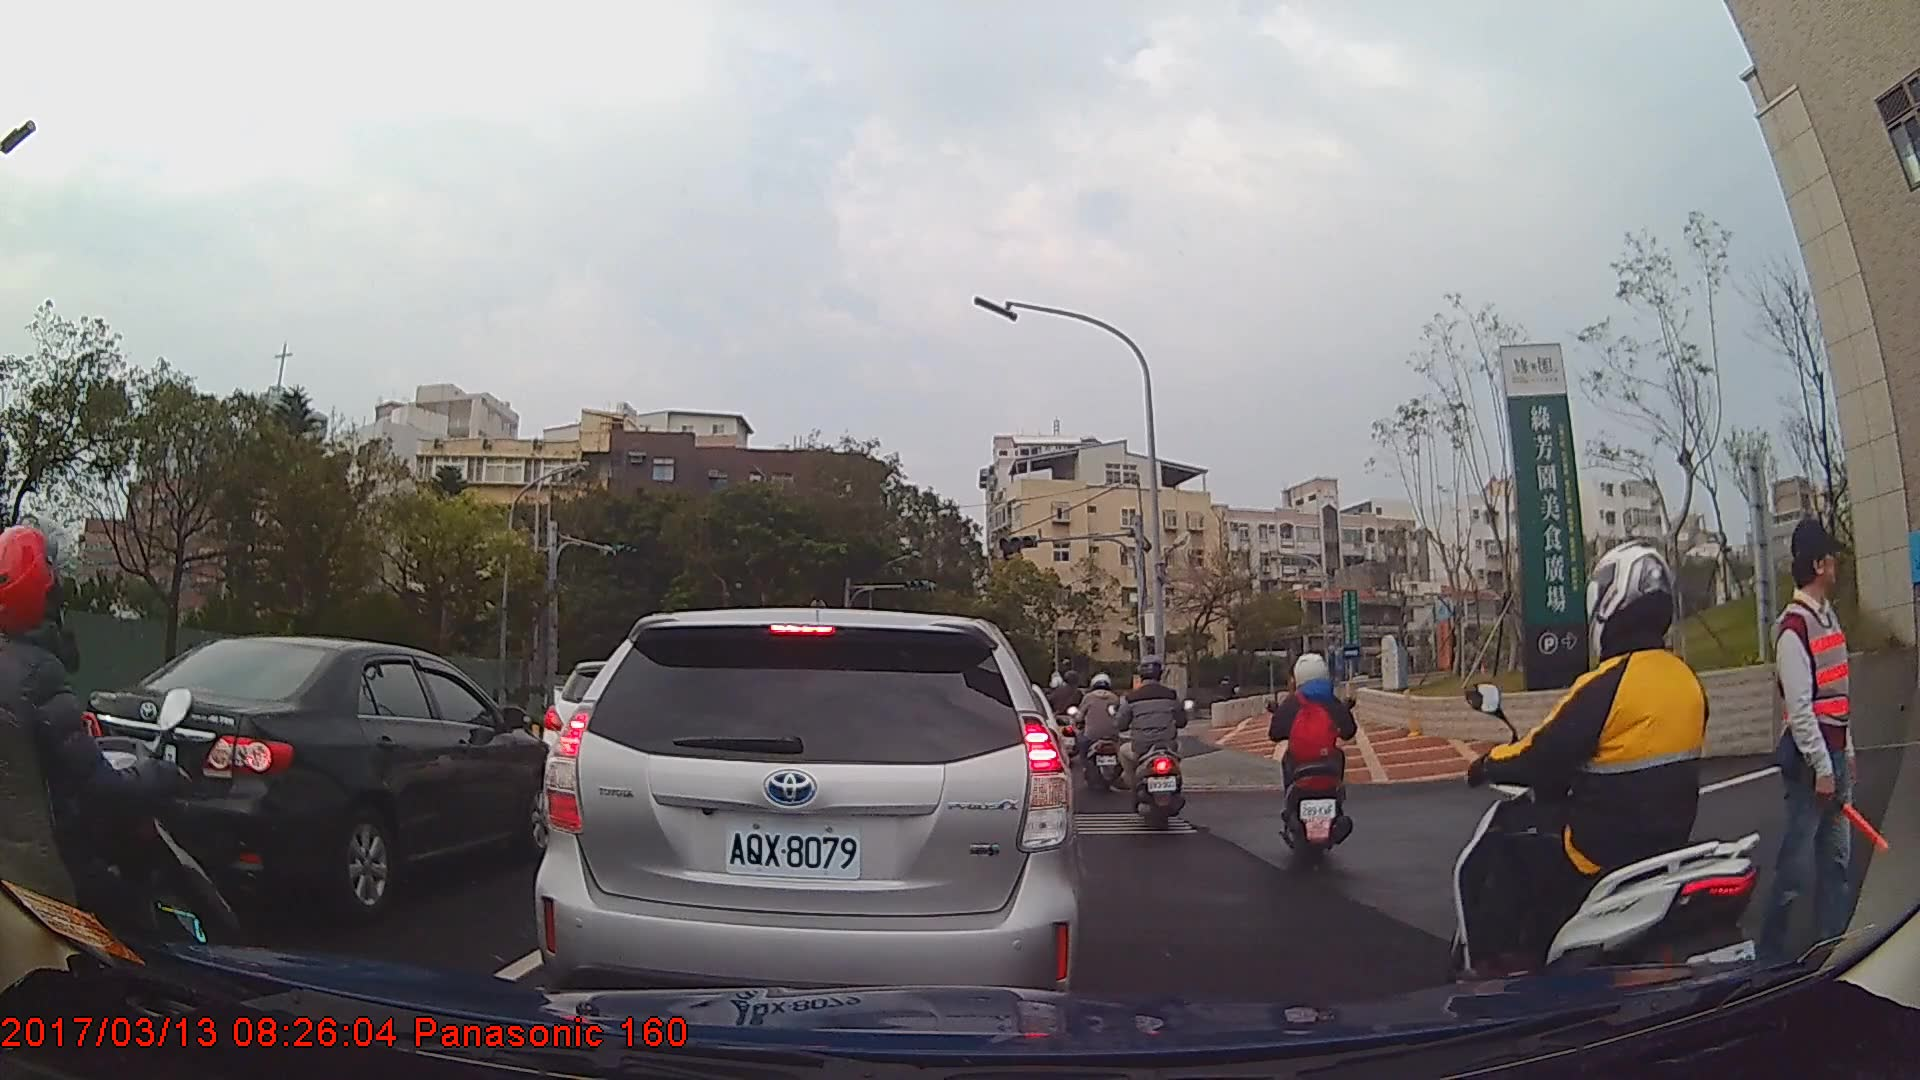pedestrian: (1753, 517, 1890, 972)
rider: (1451, 536, 1779, 1039), (1, 520, 252, 1080), (1270, 649, 1360, 857), (1117, 649, 1195, 836), (1080, 671, 1133, 793), (1052, 665, 1088, 767)
vehicle: (538, 603, 1088, 1021), (88, 635, 568, 924)
